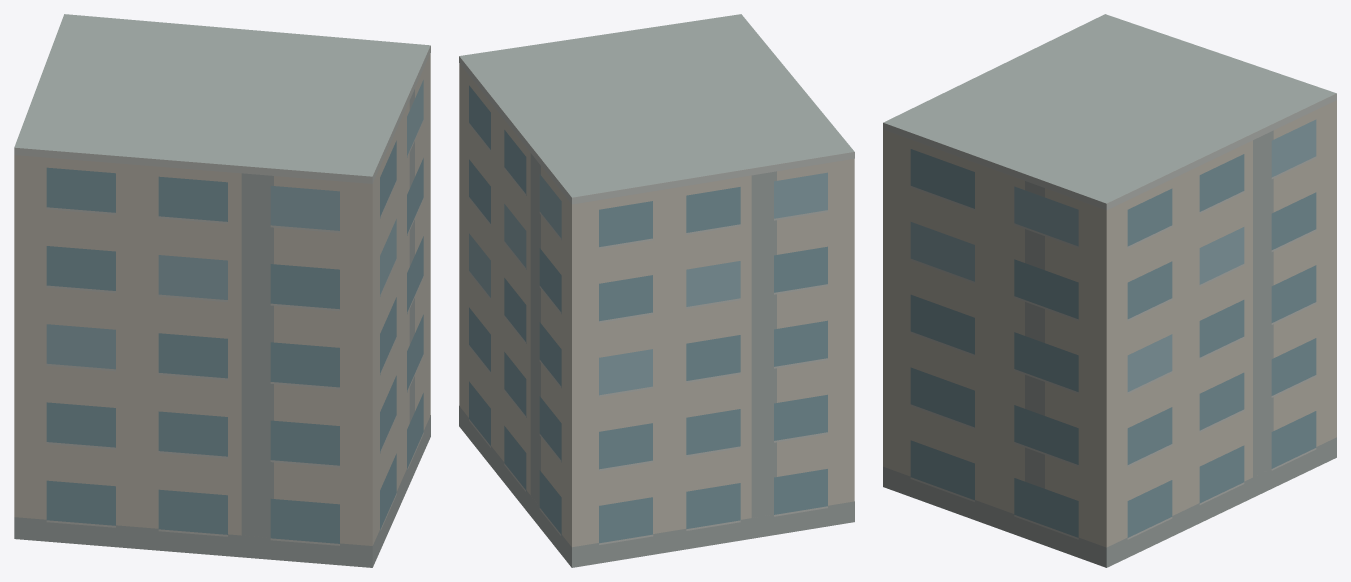
Rendered from survey-upis-32890906.glb.
The picture shows the model from 3 angles, left to right: view 1: azimuth 30°, elevation 25°; view 2: azimuth 150°, elevation 25°; view 3: azimuth 270°, elevation 25°; orthographic projection. The views are drawn at different scales.
Visible parts, largest first — view 1: survey-upis-32890906.tmp; view 2: survey-upis-32890906.tmp; view 3: survey-upis-32890906.tmp.
Part boxes in pixels (left/top/right/bottom): survey-upis-32890906.tmp: left=14, top=14, right=430, bottom=567; survey-upis-32890906.tmp: left=459, top=14, right=854, bottom=567; survey-upis-32890906.tmp: left=883, top=14, right=1336, bottom=567.
Size of the model in its own units: 14.63 by 13.1 by 14.8.
